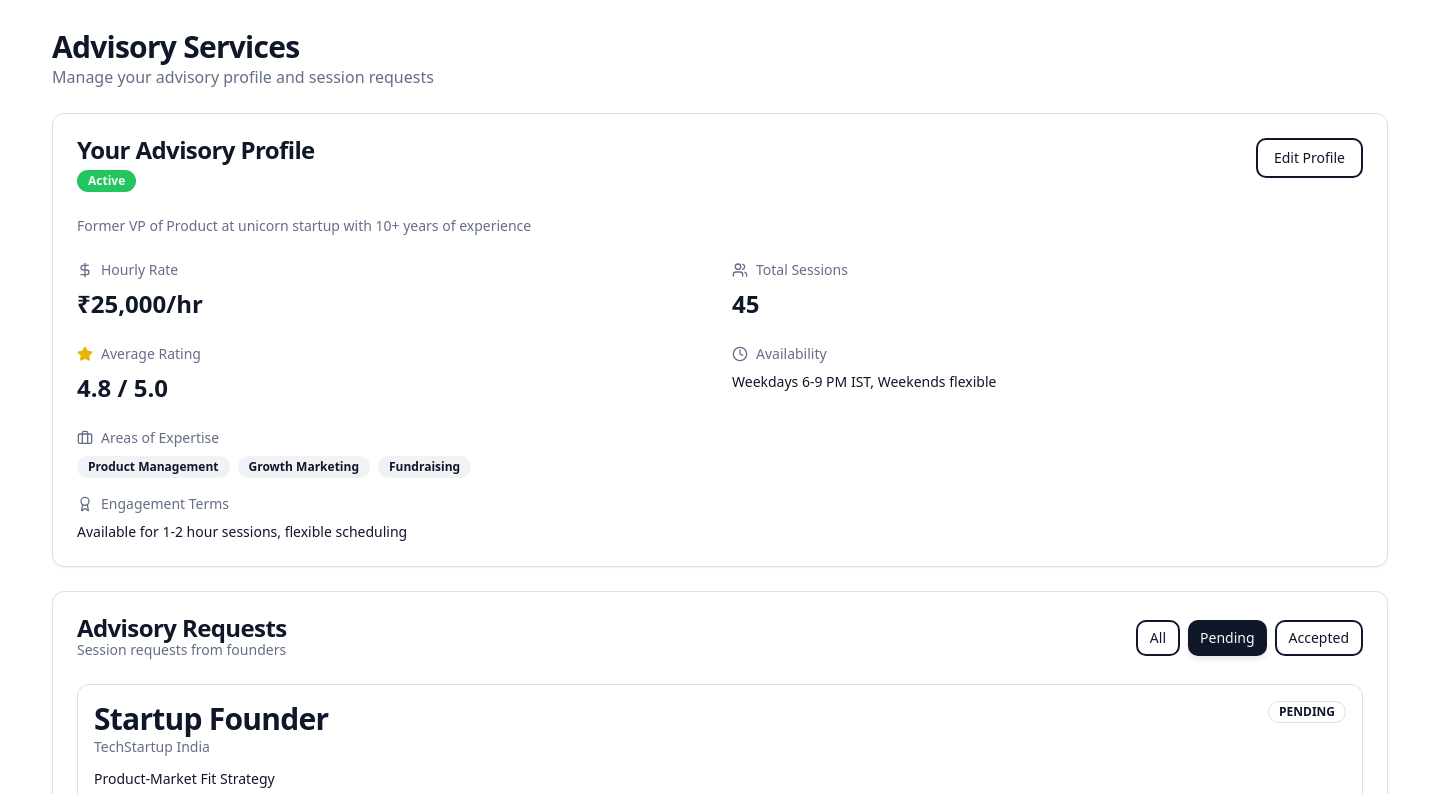
Test case: US-OPERATOR-001: Offer Advisory Services › Advisory Requests List › should display accepted requests
The image size is (1440, 794).
Expected: the heading "Advisory Services" is shown, top-left (52, 26), bottom-right (299, 67)
Switch to 'All' filter to see accepted requests
Click the button "All" at [1158, 638], box top-left (1136, 620), bottom-right (1180, 656)
(page scrolled)
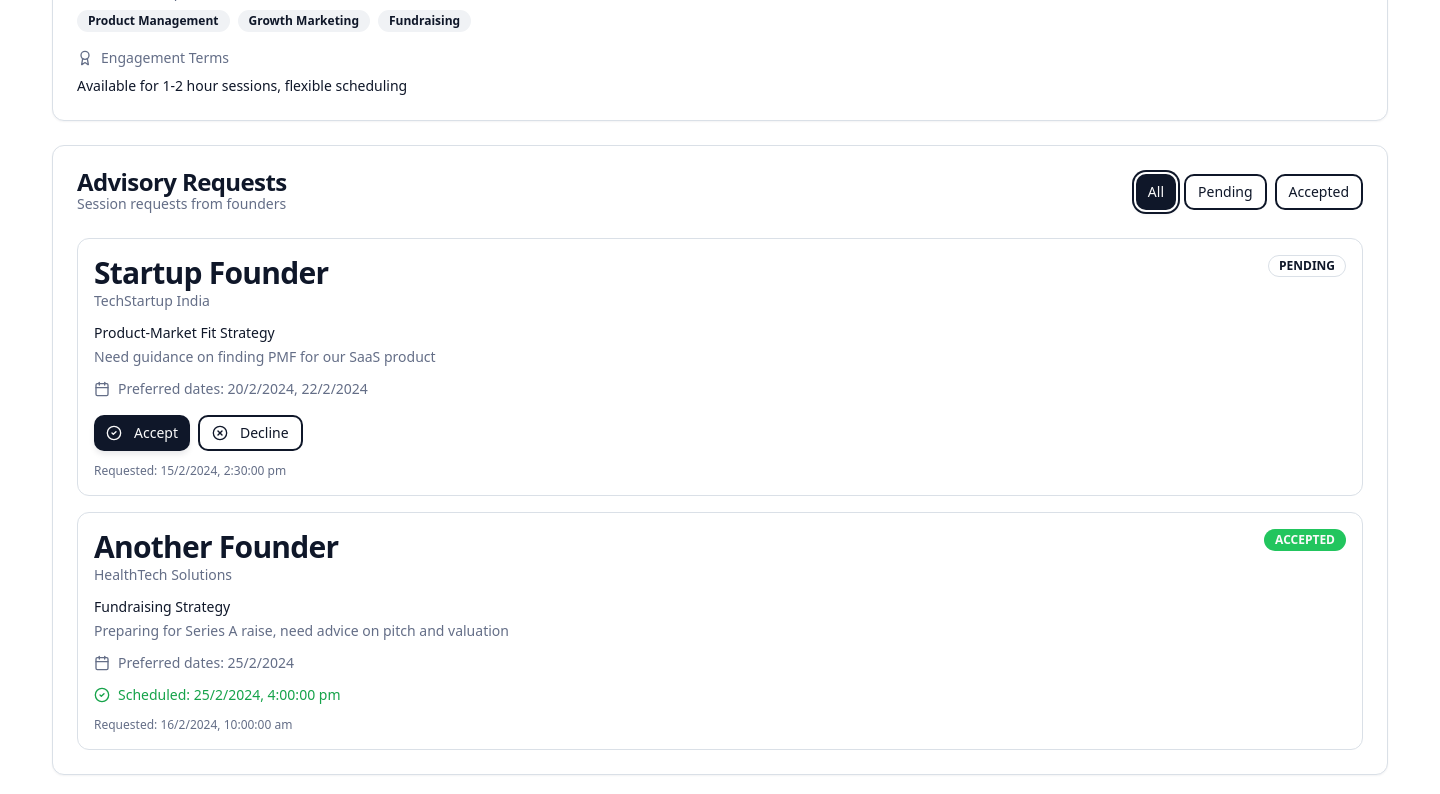
Result: the heading "Another Founder" is shown at top-left (94, 529), bottom-right (338, 565)
Result: the text "HealthTech Solutions" is shown at top-left (94, 565), bottom-right (232, 584)
Result: the text "ACCEPTED" is shown at top-left (1264, 529), bottom-right (1346, 551)
